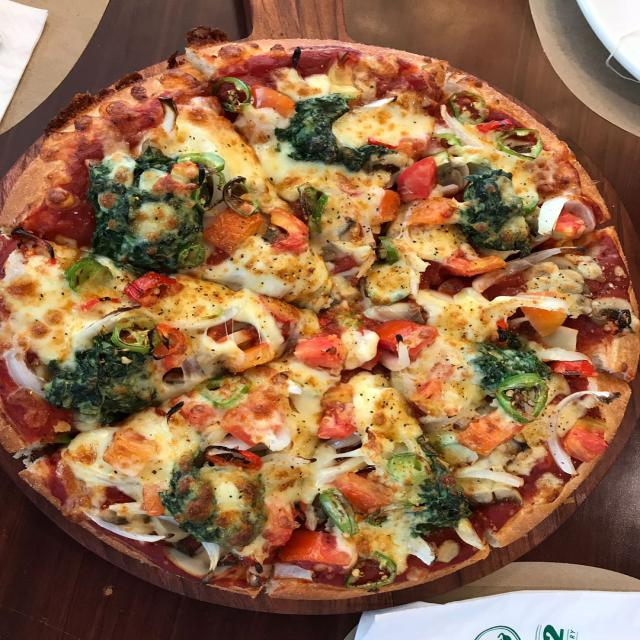pizza: (0, 26, 639, 600)
tomatoes: (275, 524, 354, 570), (454, 405, 526, 455), (216, 324, 282, 374), (203, 203, 264, 254), (334, 466, 397, 513), (368, 318, 440, 357), (558, 411, 610, 464), (512, 290, 568, 336), (444, 238, 507, 278), (399, 191, 459, 229), (396, 153, 440, 201), (269, 205, 311, 254), (291, 334, 349, 369), (317, 395, 359, 443), (245, 82, 296, 121), (133, 481, 169, 520), (545, 207, 587, 240), (411, 379, 442, 415), (373, 190, 401, 223)
